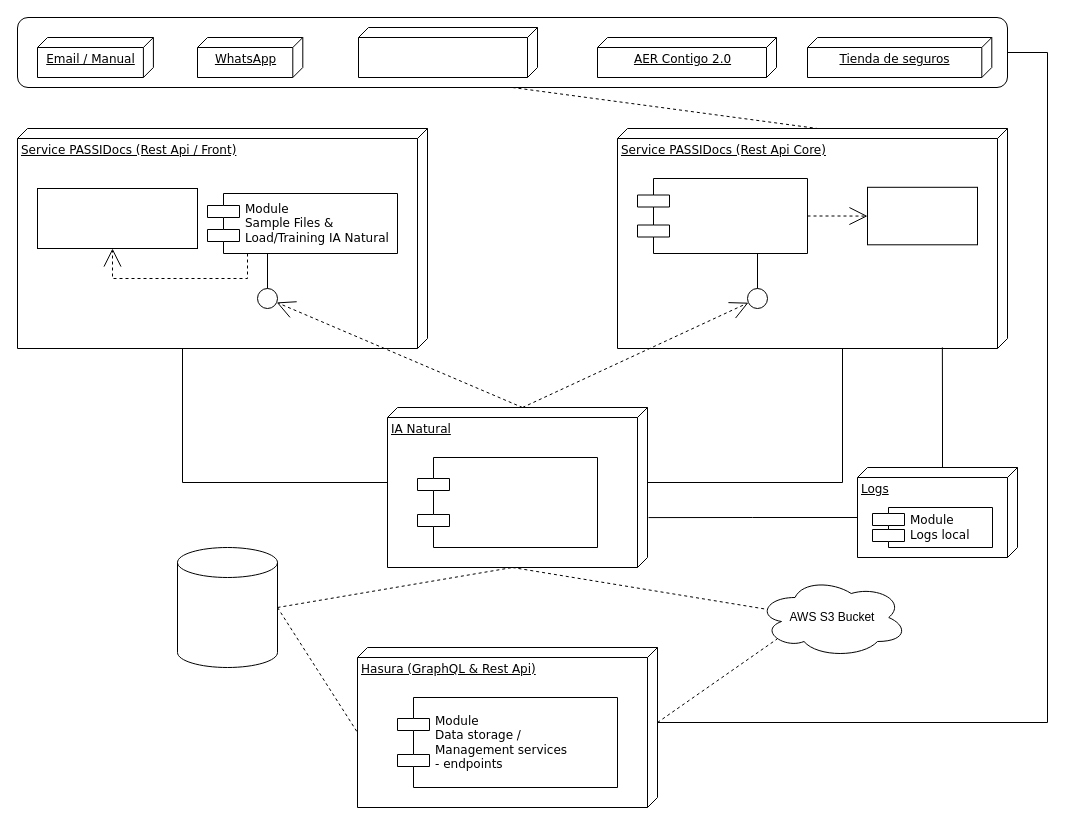
Image size: 1066x825. Some labels were removed from this diagram. Each missing label, with the centre of its shape:
Database reSIO: (x=227, y=607)
Module Classify Document / Extract Data / Machine Learning / Save Database: (x=507, y=502)
Module CRUD Files & Send to Classify (Natural IA): (x=722, y=216)
Portal 360 (Web Empresarial): (x=448, y=52)
«Interface» Create Samples for Natural IA: (x=117, y=218)
«Interface» Rest Api (Endpoints): (x=922, y=215)
